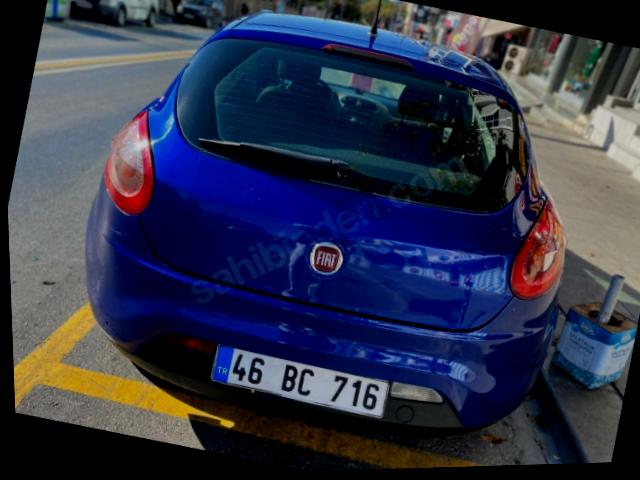plaka: (212, 345, 388, 417)
